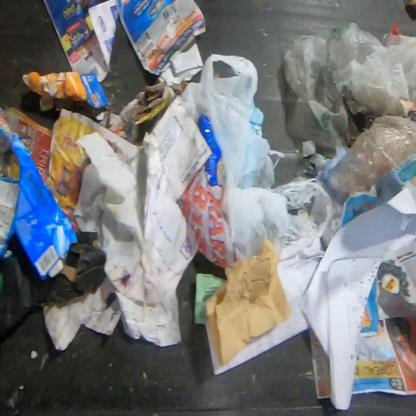cardboard: (0, 105, 80, 283), (41, 275, 124, 352), (95, 82, 176, 148)
rigid_plastic: (198, 115, 222, 186)
soft_plastic: (179, 52, 334, 264), (282, 21, 415, 154), (321, 114, 415, 209), (176, 161, 228, 268)
